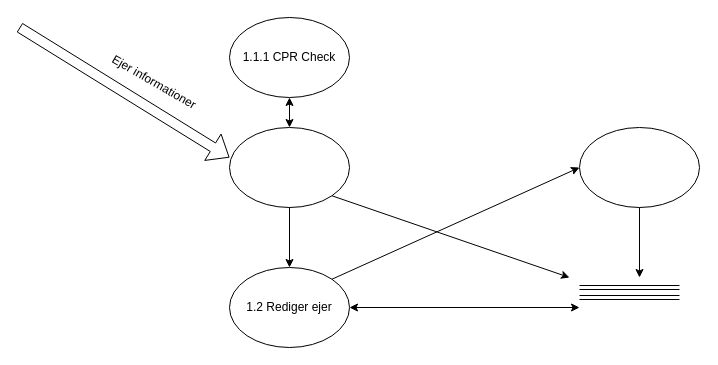
Image size: 718x365. Some labels were removed from this diagram. Here are the shapes that lost their labels. From the top down, the centre of each, then its label:
At (289,167): "1.1 Tilføj ejer".
At (639,167): "1.3 Slet ejer".
